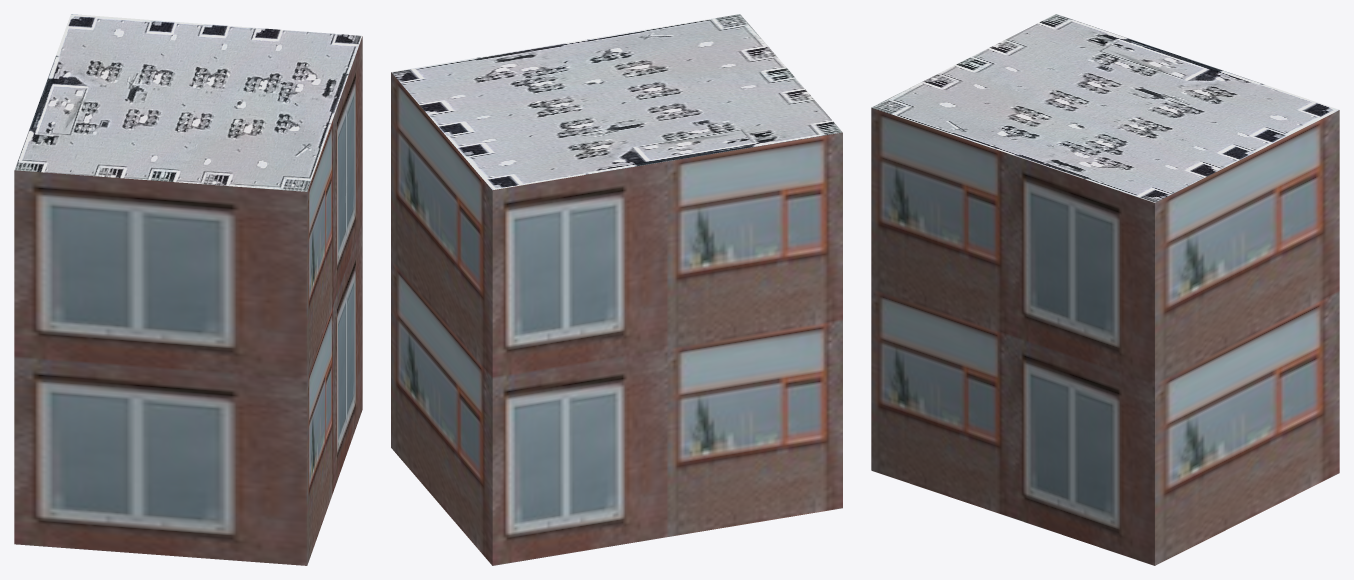
The model's file is ResTex__2912.fbx.
3 renders of one model, left to right at view 1: azimuth 30°, elevation 25°; view 2: azimuth 150°, elevation 25°; view 3: azimuth 270°, elevation 25°, orthographic. The views are drawn at different scales.
Visible parts, largest first — view 1: CityEngineMaterial_19_m, CityEngineMaterial_m; view 2: CityEngineMaterial_19_m, CityEngineMaterial_m; view 3: CityEngineMaterial_19_m, CityEngineMaterial_m.
Boxes of the visible parts, x1,y1,x2,y2 form: CityEngineMaterial_19_m: (14,36,362,565); CityEngineMaterial_m: (14,14,362,191); CityEngineMaterial_19_m: (391,72,842,565); CityEngineMaterial_m: (391,14,842,190); CityEngineMaterial_19_m: (871,107,1339,565); CityEngineMaterial_m: (871,14,1338,202).
Bounding box in the file's own units: 6.7 × 6 × 7.02.
2 materials, 2 textured.
